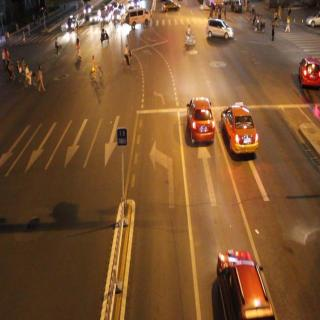Car: (214, 245, 273, 320), (218, 97, 259, 165), (180, 89, 215, 151), (300, 55, 320, 108), (207, 11, 234, 44), (124, 2, 152, 28), (160, 0, 186, 18)
